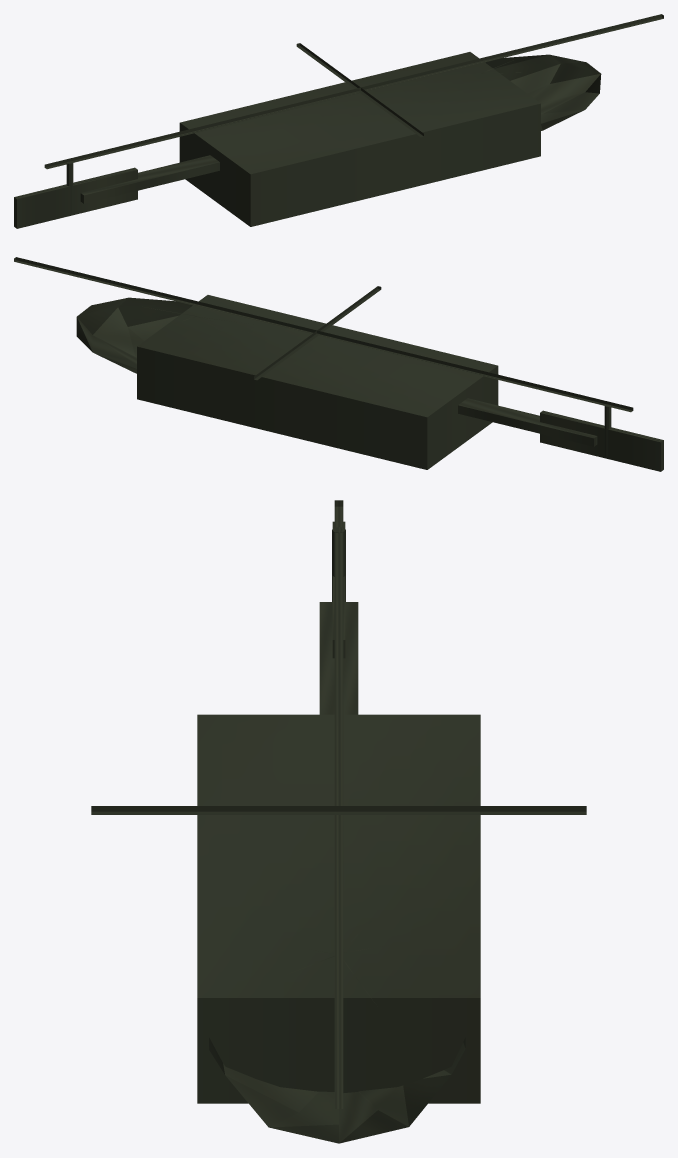
Rendered from veh_chopper_transport_a.glb.
The picture shows the model from 3 angles, top to bottom: view 1: azimuth 30°, elevation 25°; view 2: azimuth 150°, elevation 25°; view 3: azimuth 270°, elevation 25°; orthographic projection. The views are drawn at different scales.
Visible parts, largest first — view 1: veh_chopper_transport_a; view 2: veh_chopper_transport_a; view 3: veh_chopper_transport_a.
Boxes of the visible parts, bbox=[...] form: veh_chopper_transport_a: bbox=[14, 14, 663, 228]; veh_chopper_transport_a: bbox=[14, 257, 663, 471]; veh_chopper_transport_a: bbox=[91, 500, 586, 1143].
Size of the model in its own units: 9.63 by 1.1 by 3.19.
Materials: 1 (1 with a texture image).
